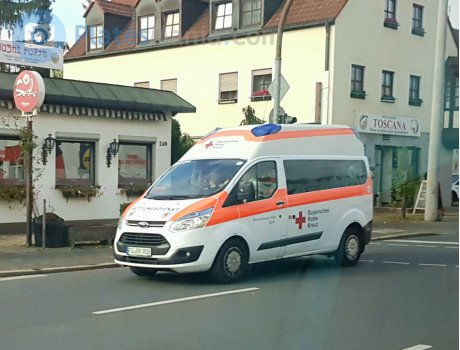License Plates: (127, 244, 161, 254)
